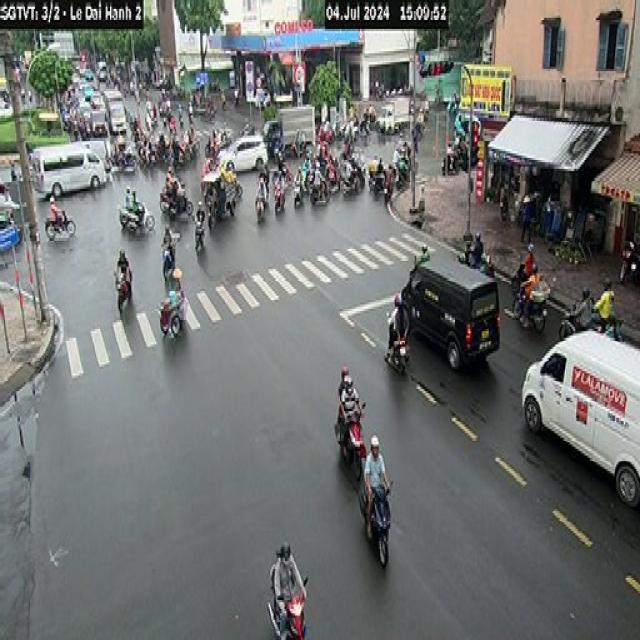Red: (422, 56, 461, 79), (470, 122, 480, 172)
